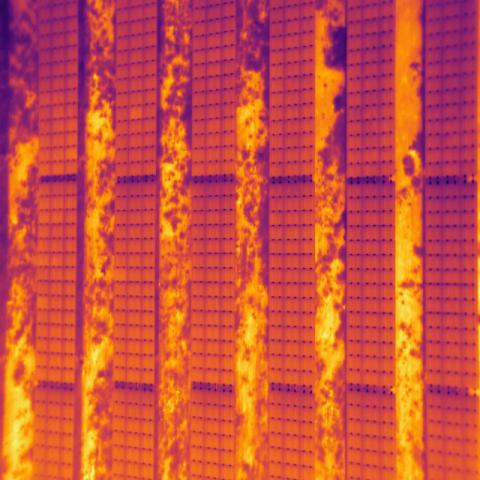fault: (65, 146, 77, 160), (129, 107, 143, 119)
